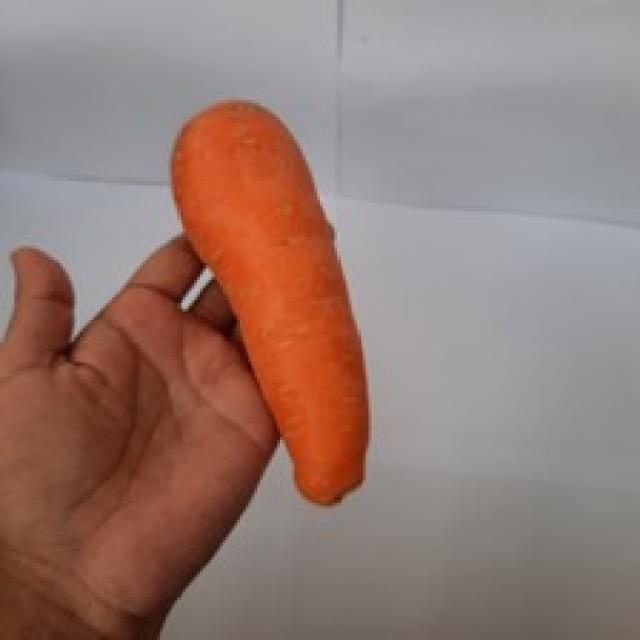Fresh_Carrot: (165, 87, 365, 481)
